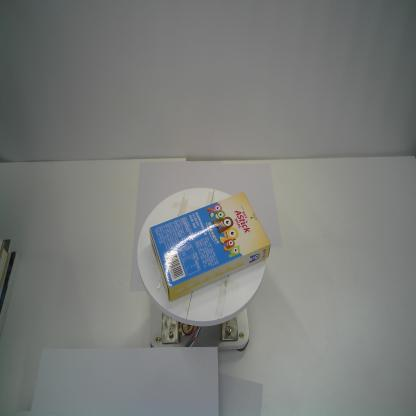Dessert: (149, 190, 271, 303)
